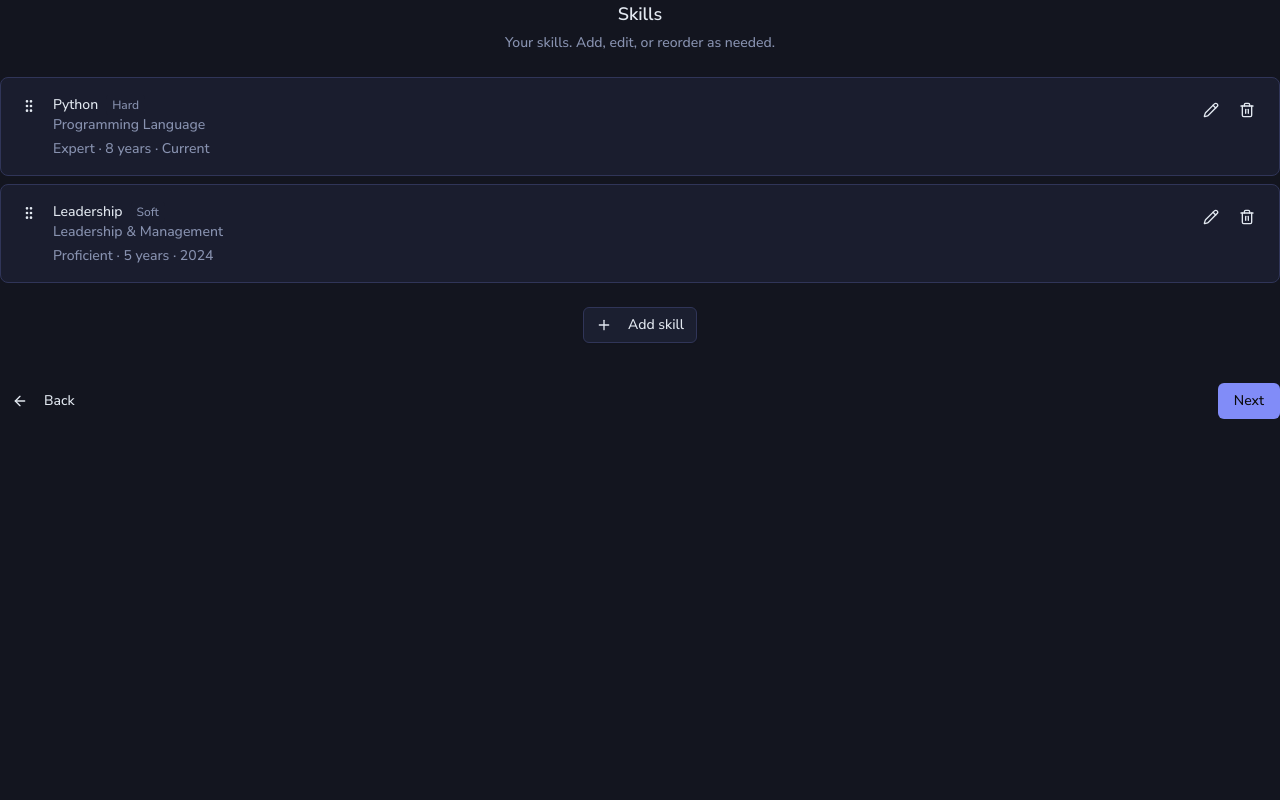
Test: SkillsStep › delete flow › closes dialog without deleting on cancel
Click the button named "delete python" at (1247, 110), box [1231,94,1263,126]
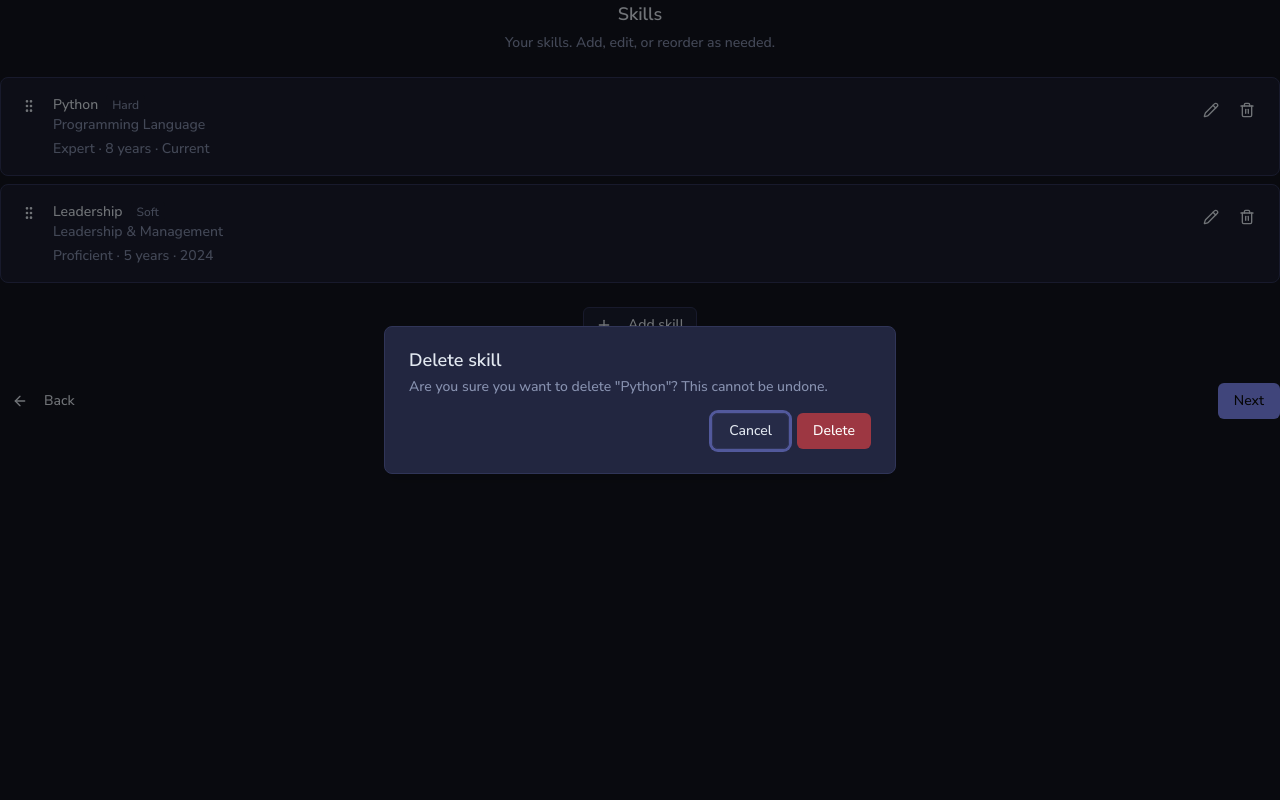
Click the button "Cancel" at (751, 431), box [712,413,789,449]
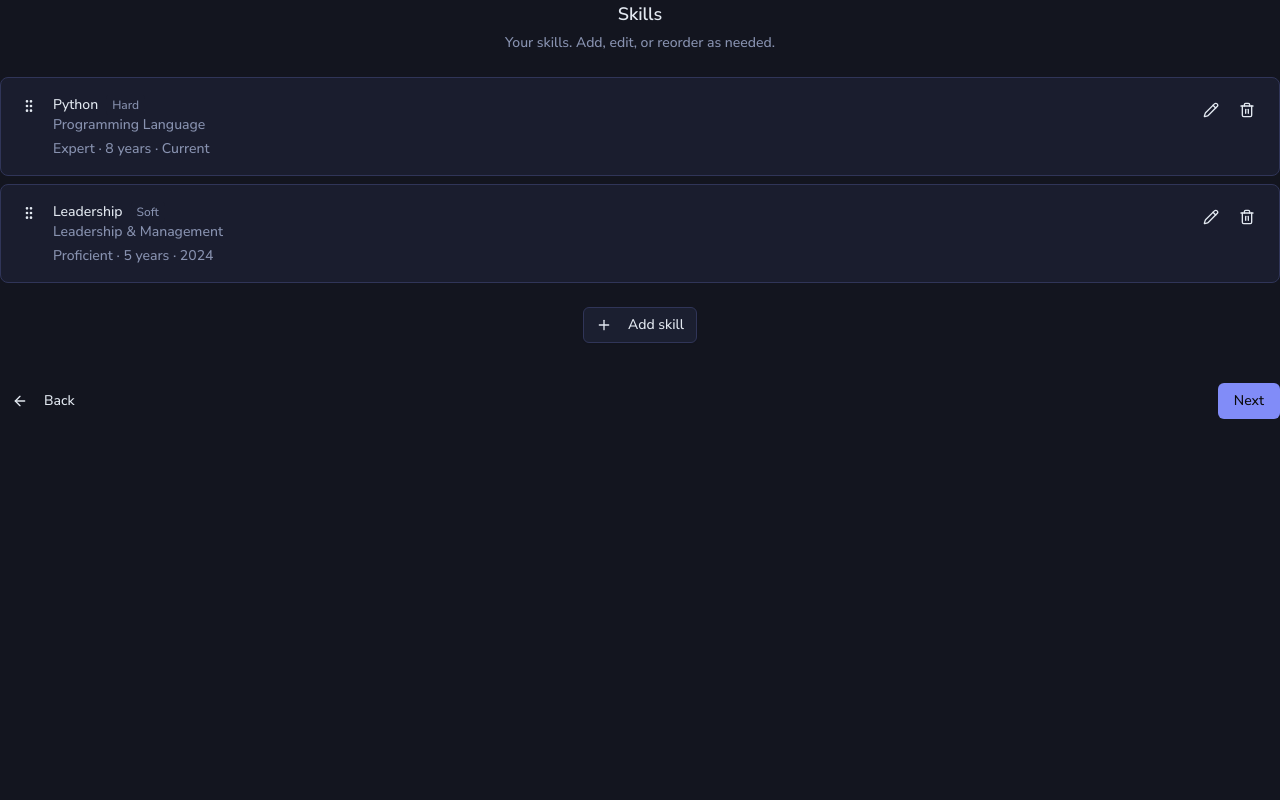
Check: the heading "Python" is shown, box [53,94,98,115]
Check: the dialog is gone
